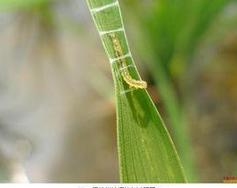pest: (108, 31, 147, 88)
